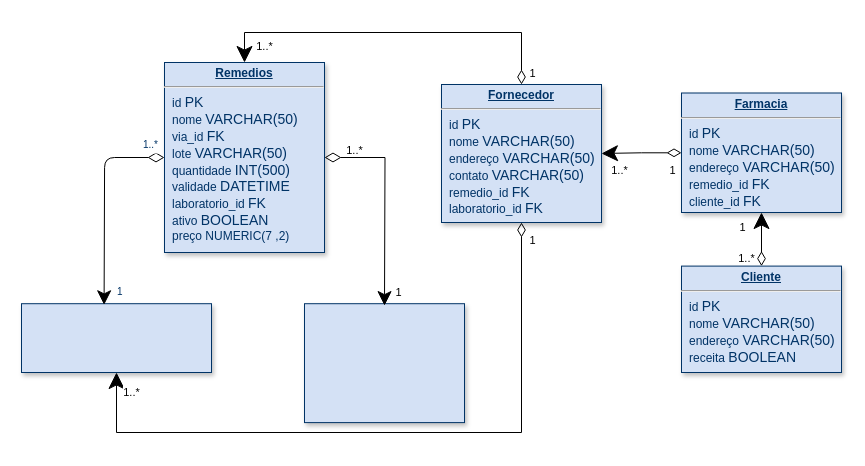
Image size: 865x466. Some labels were removed from this diagram. Each missing label, with the centre of its shape:
Laboratorios <ENUMERATION> MEDLEY LABEXEMP: the point at 117,339
Via <ENUMERATION> ORAL NASAL VENOSO INTRAMUSCULAR RETAL: the point at 385,364
